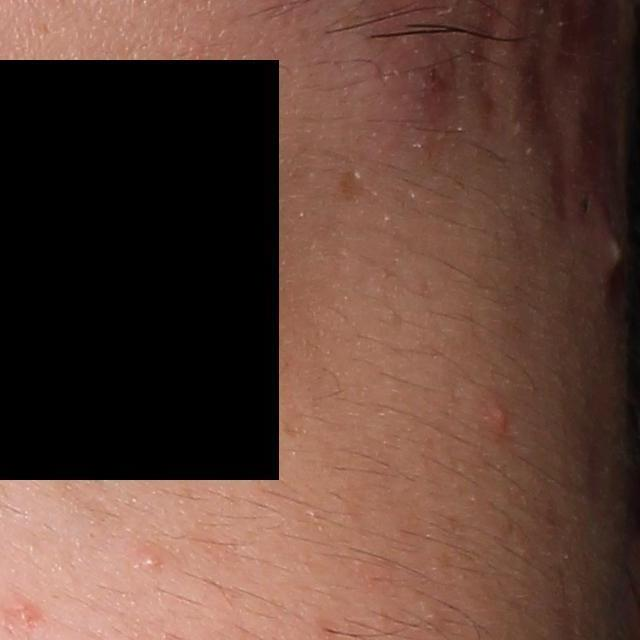atrophic_scar: (461, 10, 506, 153)
comedo: (143, 552, 160, 569)
papule: (486, 395, 511, 439)
